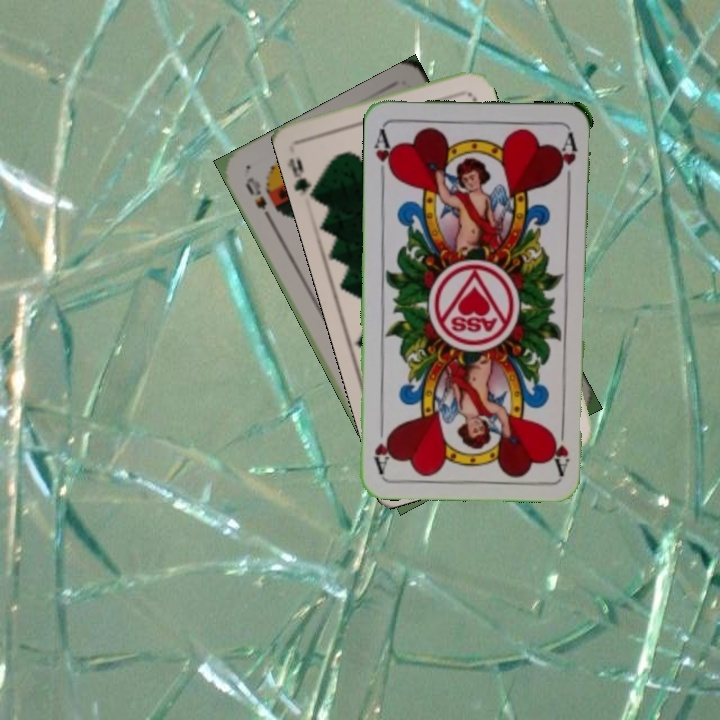G9: (285, 154, 320, 201)
HA: (370, 124, 397, 183), (551, 417, 572, 476)
SO: (241, 172, 276, 226)
